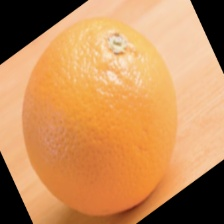orange: (38, 14, 196, 212)
